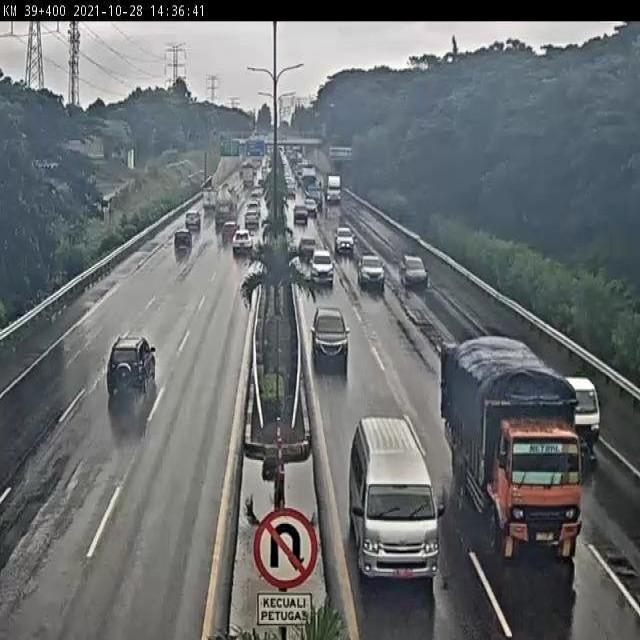big truck: (470, 373, 586, 564)
car: (98, 324, 166, 419), (572, 369, 599, 442), (317, 305, 353, 356), (355, 238, 379, 294), (164, 232, 194, 267), (308, 242, 334, 274), (338, 216, 358, 251), (400, 257, 416, 291), (234, 227, 251, 254), (179, 212, 190, 239)
small bus: (369, 443, 427, 560)
